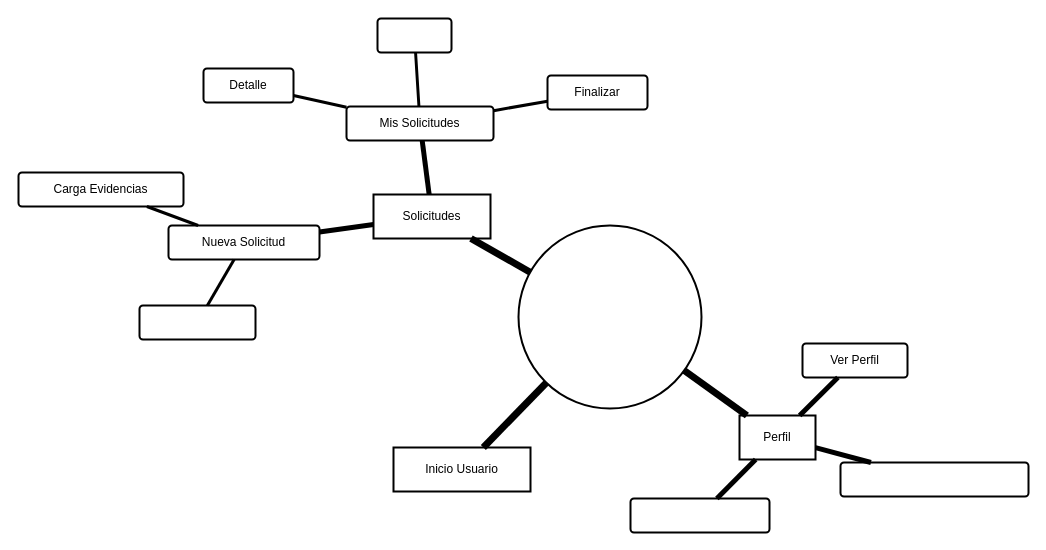
This 1046x550 diagram has some shape labels left out. Here are the shapes that lost their labels. From the top down, the centre of each, then its label:
At point (414, 35): "Chat".
At point (197, 322): "Formulario".
At point (609, 316): "CONDUCTOR".
At point (934, 479): "Cambiar Contraseña".
At point (699, 515): "Cerrar Sesión".
